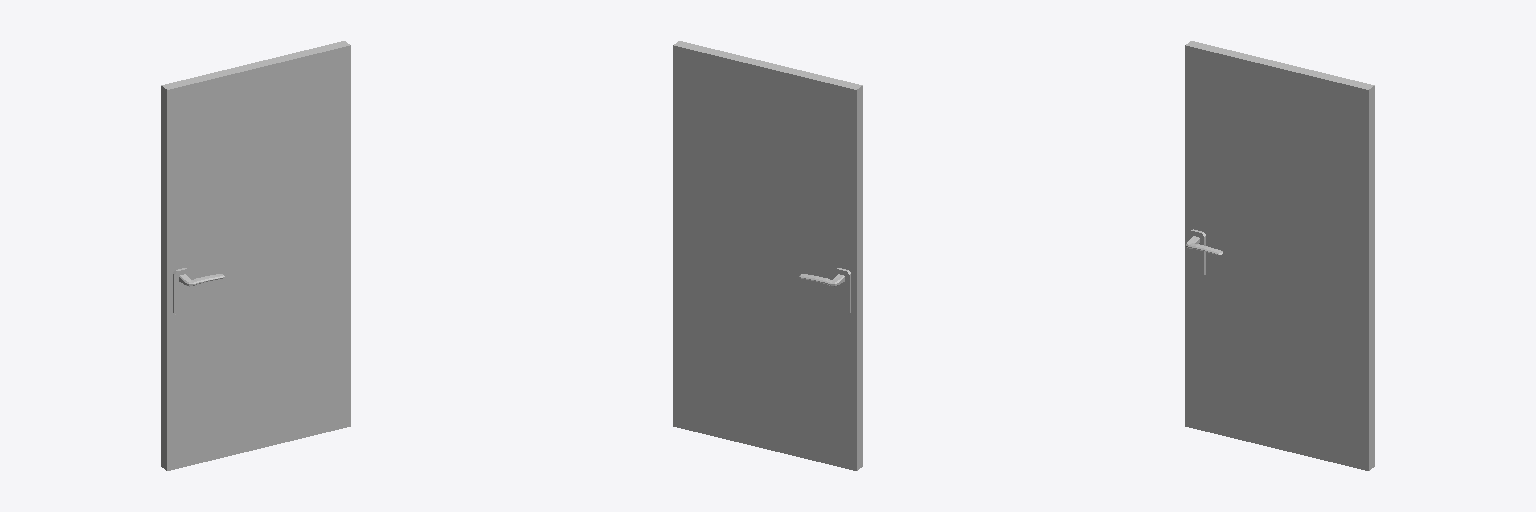
The model's file is Door.obj.
3 renders of one model, left to right at view 1: azimuth 30°, elevation 25°; view 2: azimuth 150°, elevation 25°; view 3: azimuth 330°, elevation 25°, orthographic.
Bounding box in the file's own units: 1.01 × 2 × 0.2793.